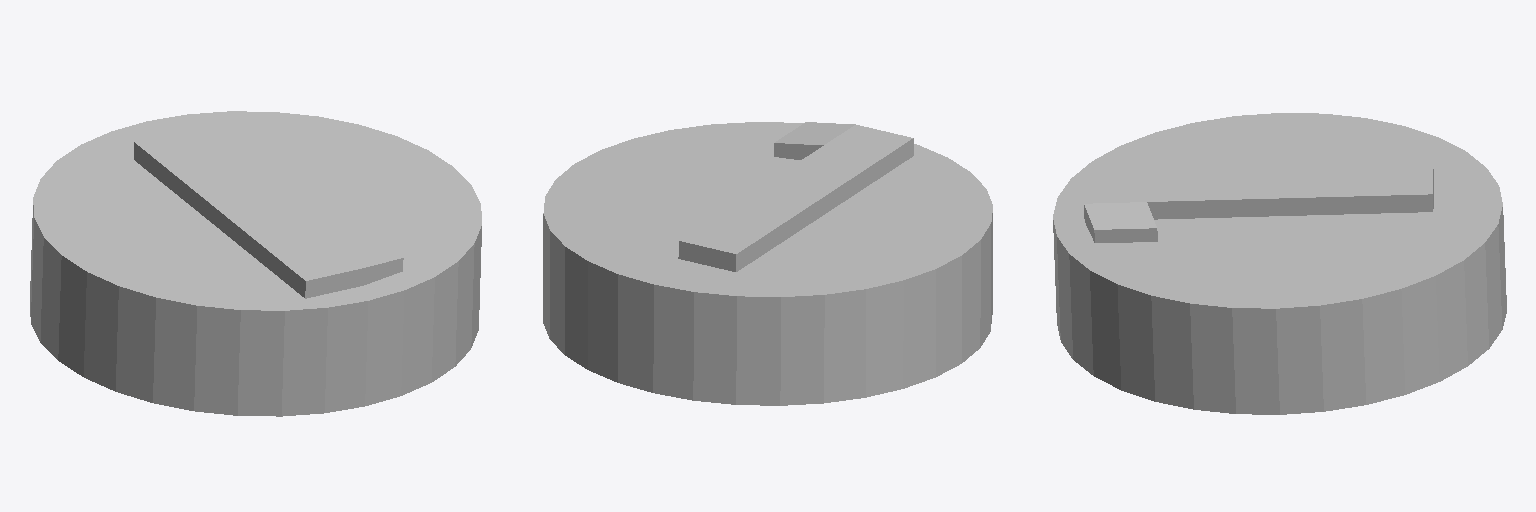
3 renders of one model, left to right at view 1: azimuth 30°, elevation 25°; view 2: azimuth 150°, elevation 25°; view 3: azimuth 270°, elevation 25°, orthographic.
Visible parts, largest first — view 1: 円柱.003, 立方体; view 2: 円柱.003, 立方体; view 3: 円柱.003, 立方体.
Boxes of the visible parts, x1=… form: 円柱.003: x1=30, y1=111, x2=481, y2=416; 立方体: x1=134, y1=129, x2=403, y2=298; 円柱.003: x1=543, y1=122, x2=992, y2=405; 立方体: x1=678, y1=122, x2=913, y2=271; 円柱.003: x1=1053, y1=113, x2=1506, y2=414; 立方体: x1=1084, y1=165, x2=1433, y2=242.
Bounding box in the file's own units: 3.96 × 1.33 × 3.98.